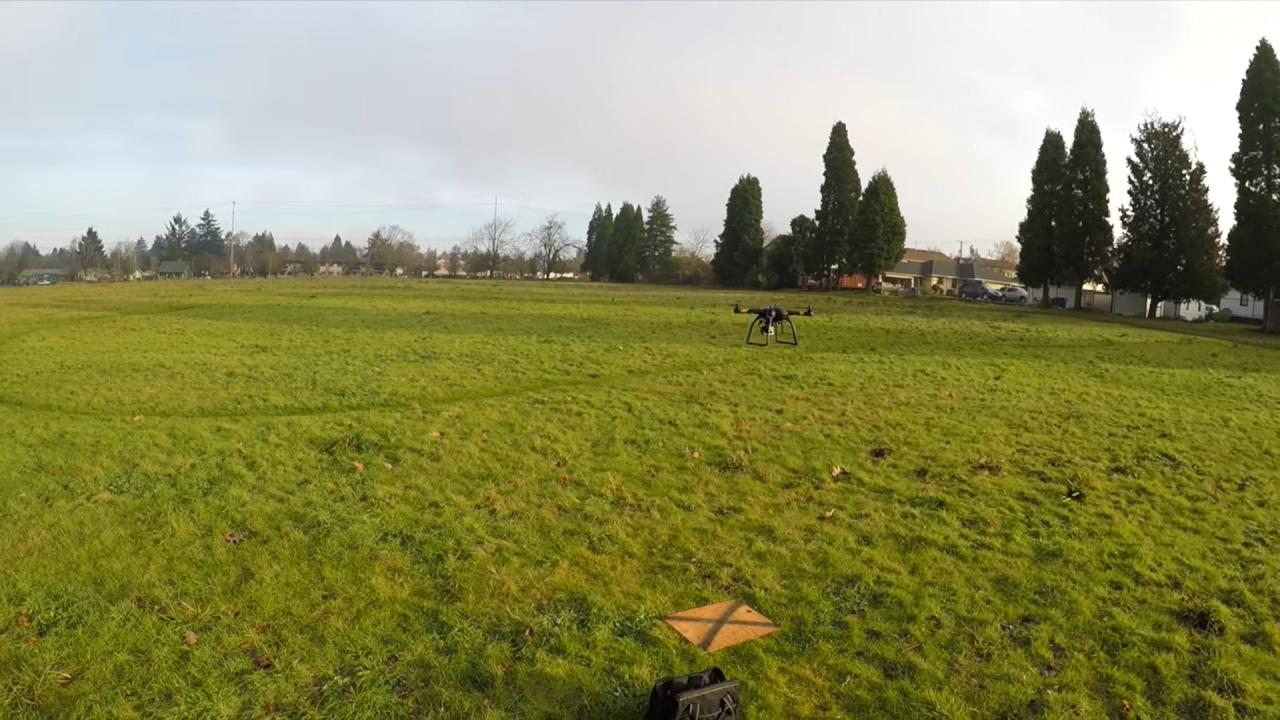Drone: (719, 292, 824, 359)
